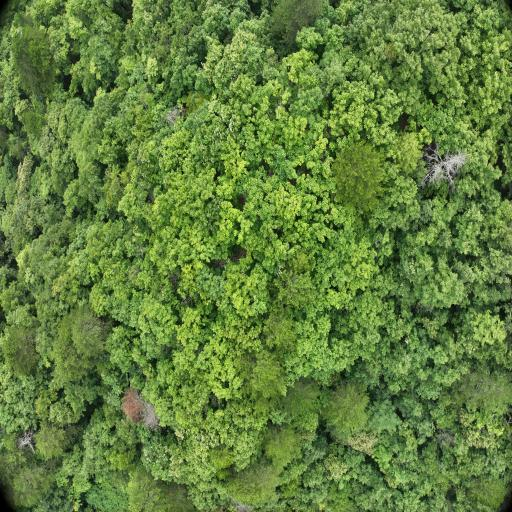dead-tree: (429, 155, 463, 176), (18, 436, 34, 448), (147, 406, 155, 425)
sick-tree: (127, 392, 139, 417)
